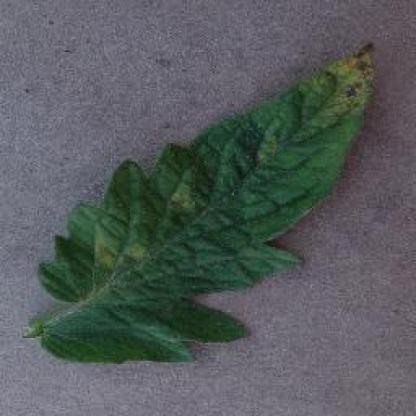Tomato_Leaf_Mold: (38, 44, 372, 361)
